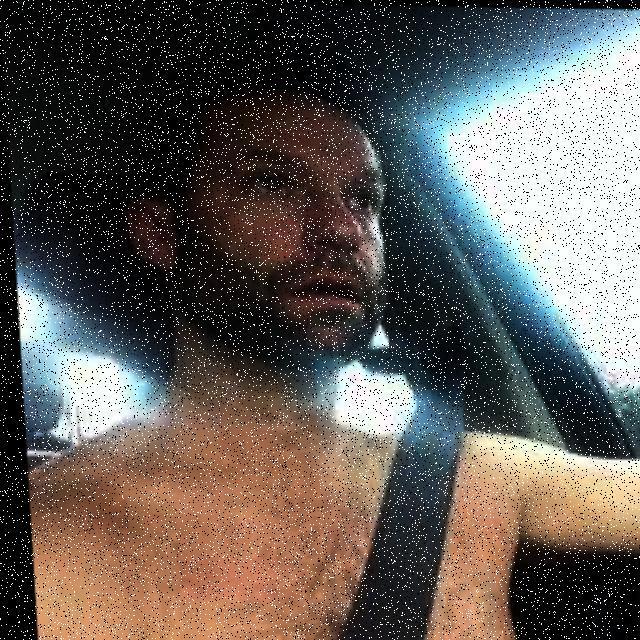seatbelt: (19, 408, 530, 640)
